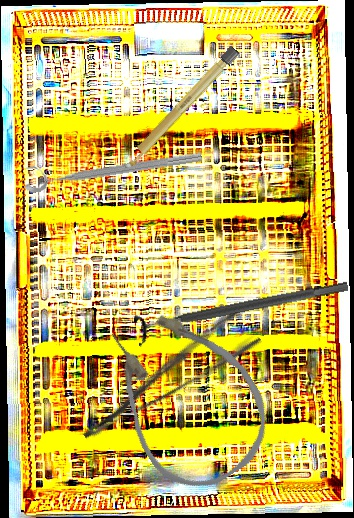Cannula: (83, 284, 289, 507)
Dressing Forceps: (65, 304, 264, 443)
Fixation Ring: (132, 268, 352, 349), (21, 138, 204, 194)
Scalpel Handle: (120, 44, 240, 173)
